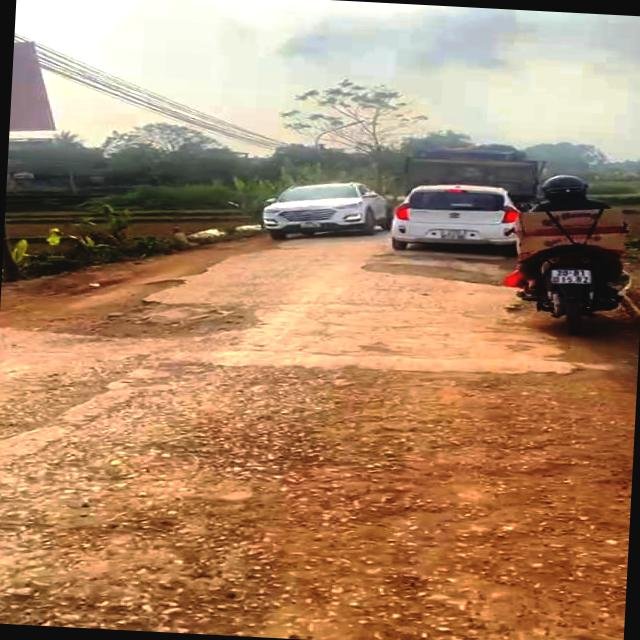pothole: (0, 266, 273, 348), (0, 582, 292, 639), (358, 258, 517, 288)
